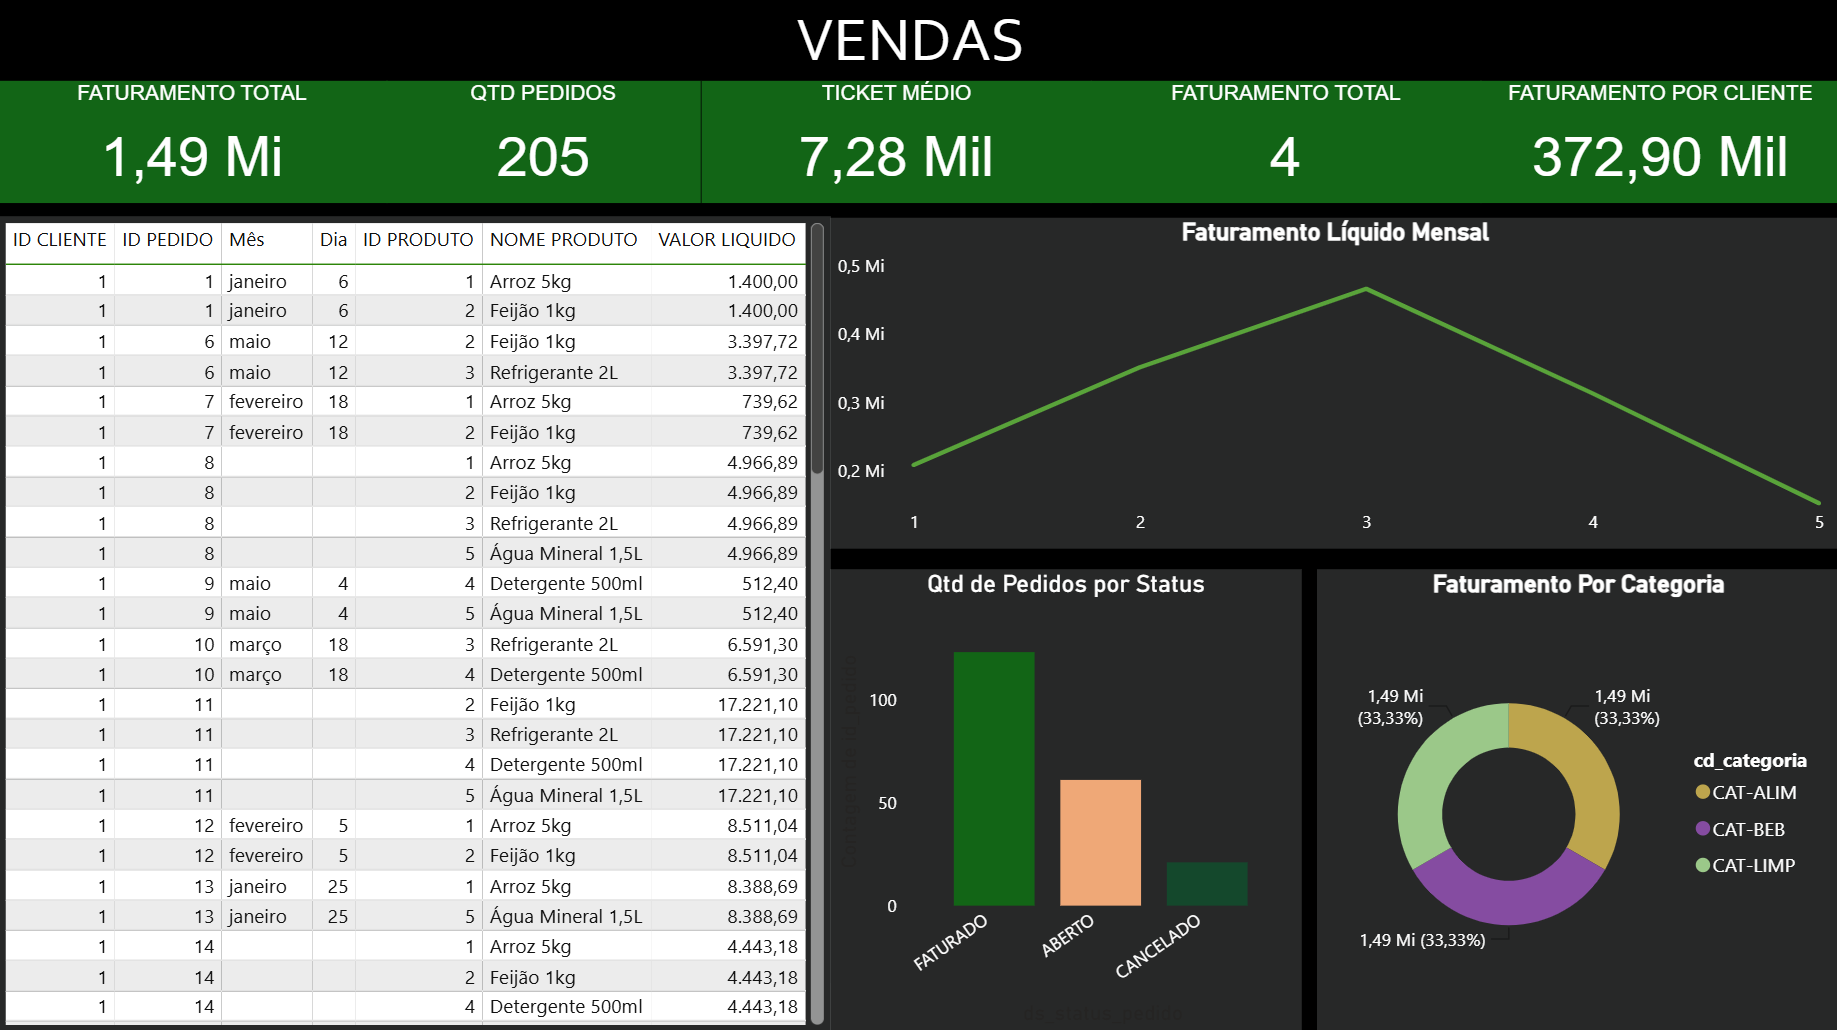

This screenshot's page, from the dashboard's own definition file:
{"tool":"powerbi","page":{"name":"Vendas","canvas":[1280,720],"ordinal":1},"visuals":[{"type":"lineChart","title":"Faturamento Líquido Mensal","fields":{"Category":["pedido.Mes"],"Y":["pedido.Faturamento Líquido"]},"box":[578.6,154.7,701.4,229.5],"z":0},{"type":"tableEx","fields":{"Values":["pedido.id_cliente","pedido.id_pedido","pedido.dt_faturamento.Variation.Hierarquia de datas.Mês","pedido.dt_faturamento.Variation.Hierarquia de datas.Dia","produto.id_produto","produto.nm_produto","pedido.vl_liquido"]},"box":[0,154,578.9,566],"z":1000},{"type":"donutChart","title":"Faturamento Por Categoria","fields":{"Category":["categoria_produto.cd_categoria"],"Y":["pedido.Faturamento Líquido"]},"box":[916.4,398.4,363.6,321],"z":2000},{"type":"columnChart","title":"Qtd de Pedidos por Status","fields":{"Category":["pedido.ds_status_pedido"],"Y":["CountNonNull(pedido.id_pedido)"]},"box":[578.9,398.4,327.5,321],"z":3000},{"type":"card","title":"FATURAMENTO TOTAL","fields":{"Values":["pedido_item.Faturamento Total"]},"box":[0,59.3,270.8,85.1],"z":4000},{"type":"card","title":"QTD PEDIDOS","fields":{"Values":["pedido.Qtd Pedidos"]},"box":[270.8,59.3,217.9,85.1],"z":5000},{"type":"card","title":"TICKET MÉDIO","fields":{"Values":["pedido.Ticket Médio"]},"box":[488.6,59.3,270.8,85.1],"z":6000},{"type":"card","title":"FATURAMENTO TOTAL","fields":{"Values":["pedido.Clientes Ativos"]},"box":[759.4,59.3,270.8,85.1],"z":7000},{"type":"card","title":"FATURAMENTO POR CLIENTE","fields":{"Values":["pedido.Faturamento por Cliente"]},"box":[1029.9,59.3,250.1,85.1],"z":8000},{"type":"textbox","box":[104.4,0,1059.8,72.2],"z":9000}]}

Visuals, with their boxes in screenshot pixels (x1, y1, x2, y2), scaled from the page's 1280x720 canvas onto the 1837x1030 screenshot:
"Faturamento Líquido Mensal" lineChart: {"x1": 830, "y1": 221, "x2": 1836, "y2": 550}
tableEx - pedido.id_cliente x pedido.id_pedido: {"x1": 0, "y1": 220, "x2": 831, "y2": 1029}
"Faturamento Por Categoria" donutChart: {"x1": 1315, "y1": 570, "x2": 1836, "y2": 1029}
"Qtd de Pedidos por Status" columnChart: {"x1": 831, "y1": 570, "x2": 1301, "y2": 1029}
"FATURAMENTO TOTAL" card: {"x1": 0, "y1": 85, "x2": 389, "y2": 207}
"QTD PEDIDOS" card: {"x1": 389, "y1": 85, "x2": 701, "y2": 207}
"TICKET MÉDIO" card: {"x1": 701, "y1": 85, "x2": 1090, "y2": 207}
"FATURAMENTO TOTAL" card: {"x1": 1090, "y1": 85, "x2": 1478, "y2": 207}
"FATURAMENTO POR CLIENTE" card: {"x1": 1478, "y1": 85, "x2": 1836, "y2": 207}
textbox: {"x1": 150, "y1": 0, "x2": 1671, "y2": 103}
